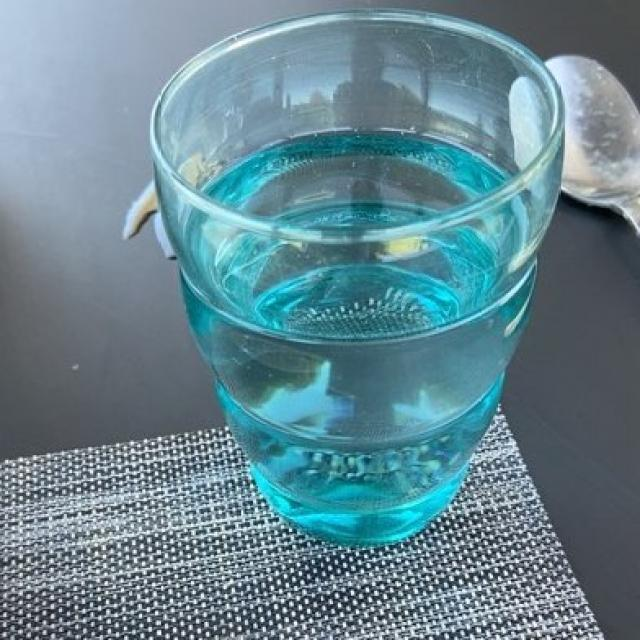water: (174, 123, 541, 550)
